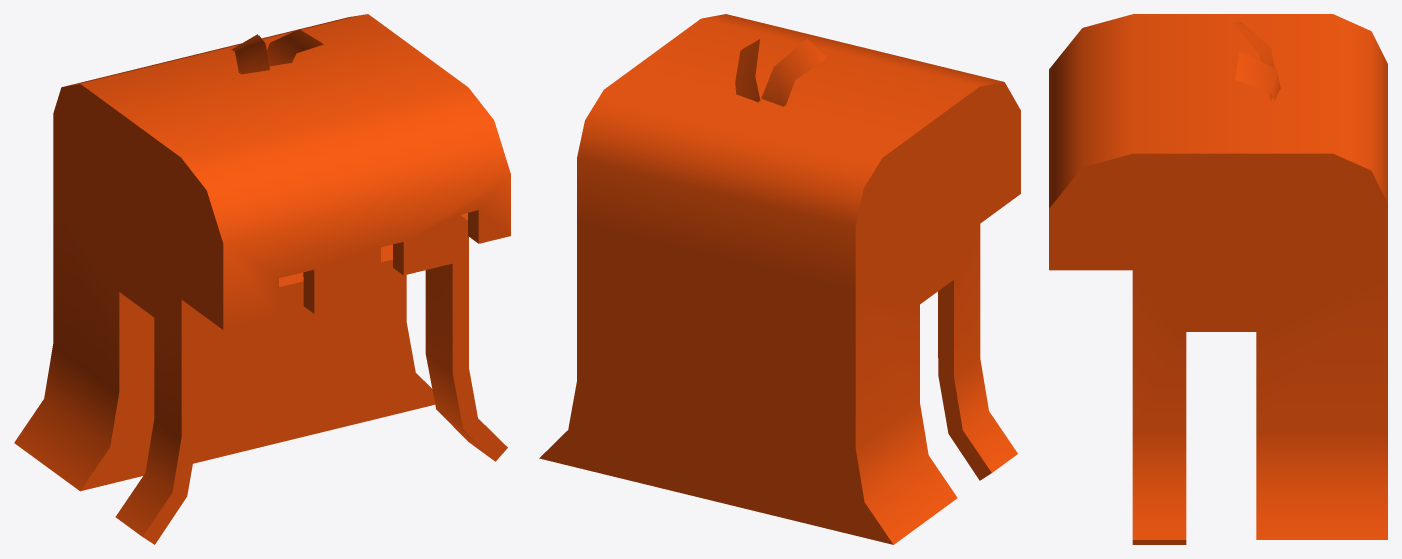
File: Hair Male 03.FBX
3 renders of one model, left to right at view 1: azimuth 30°, elevation 25°; view 2: azimuth 150°, elevation 25°; view 3: azimuth 270°, elevation 25°, orthographic. The views are drawn at different scales.
Visible parts, largest first — view 1: Hair Male 03; view 2: Hair Male 03; view 3: Hair Male 03.
Boxes of the visible parts, bbox=[...] form: Hair Male 03: bbox=[14, 14, 510, 544]; Hair Male 03: bbox=[539, 14, 1020, 544]; Hair Male 03: bbox=[1049, 14, 1387, 544].
Size of the model in its own units: 66.26 by 75.32 by 53.45.
Materials: 1 (1 with a texture image).
